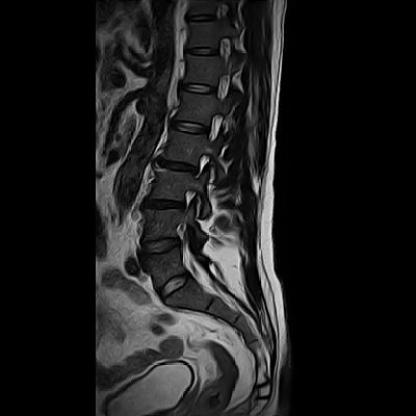Degenerative Disc Diseaserotation: (157, 158, 200, 176), (142, 197, 185, 212)
Disc Bulgerotation: (157, 158, 200, 176), (141, 237, 179, 254), (142, 197, 185, 212)
